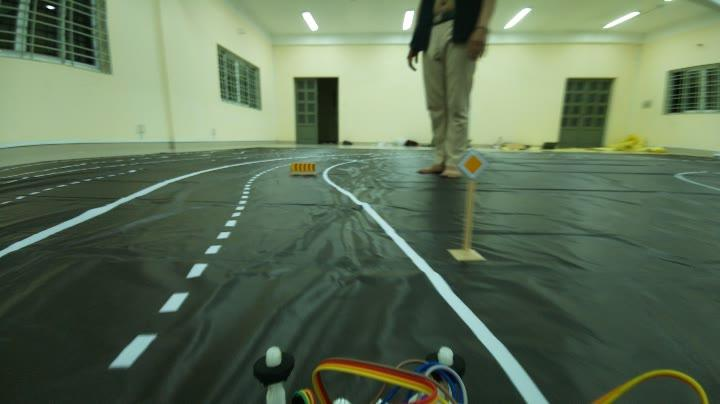priority: (456, 146, 496, 186)
roadblock: (282, 156, 328, 183)
